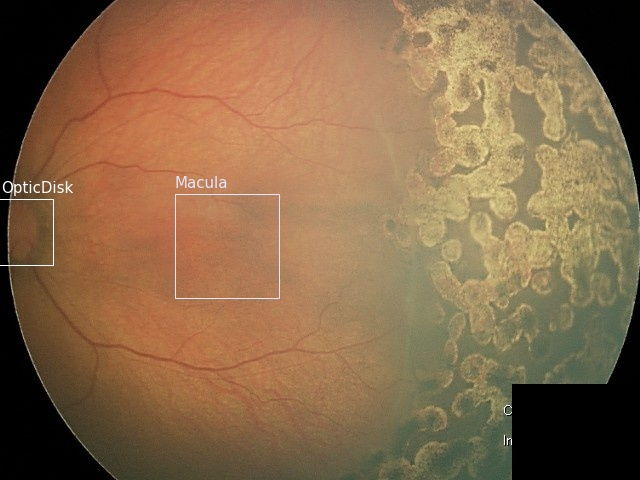Macula: (174, 193, 278, 297)
